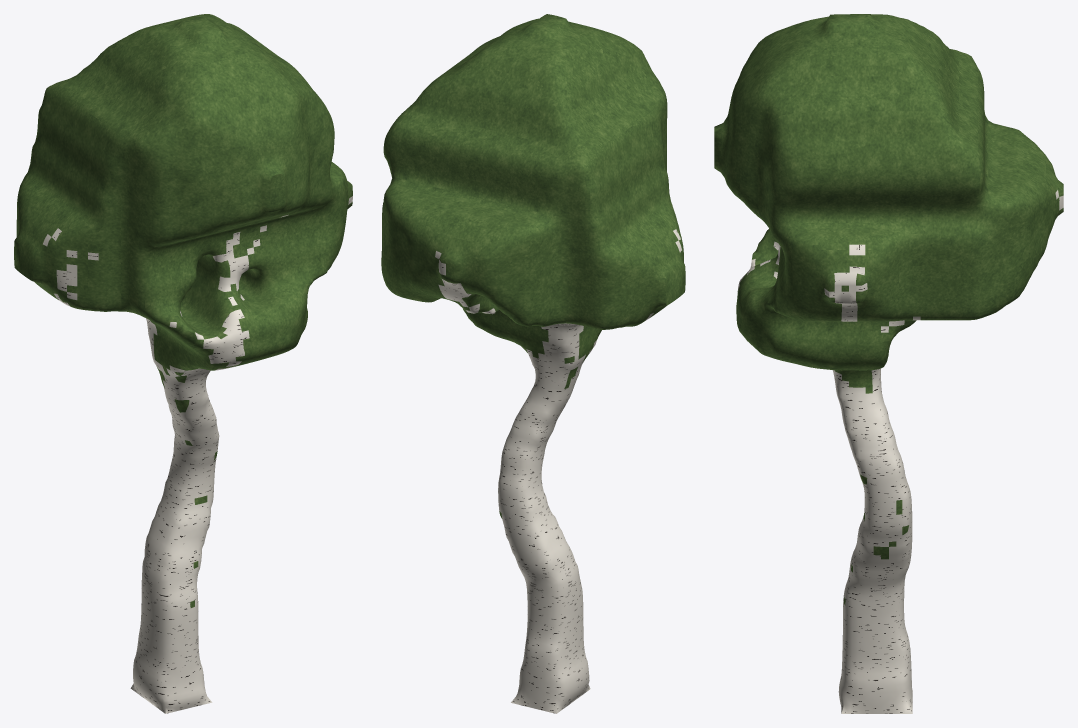
File: tree_birch_b.glb
The picture shows the model from 3 angles, left to right: view 1: azimuth 30°, elevation 25°; view 2: azimuth 150°, elevation 25°; view 3: azimuth 270°, elevation 25°; orthographic projection. The views are drawn at different scales.
Parts seen in each view (by area): view 1: wilds_ruins_tree_birch_b; view 2: wilds_ruins_tree_birch_b; view 3: wilds_ruins_tree_birch_b.
Boxes of the visible parts, box(x1,y1,x2,y2) form: wilds_ruins_tree_birch_b: box(14, 14, 352, 713); wilds_ruins_tree_birch_b: box(381, 14, 685, 713); wilds_ruins_tree_birch_b: box(714, 14, 1063, 713).
Size of the model in its own units: 2.2 by 4.8 by 2.2.
Materials: 3 (3 with a texture image).
